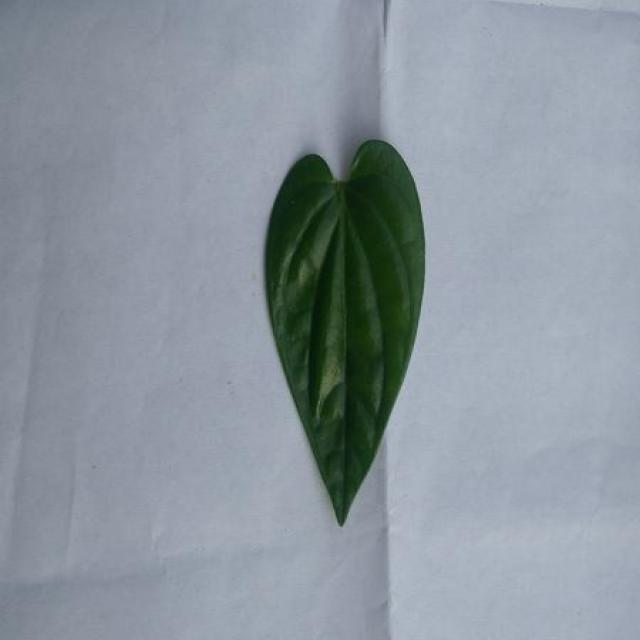betel: (265, 140, 425, 466)
